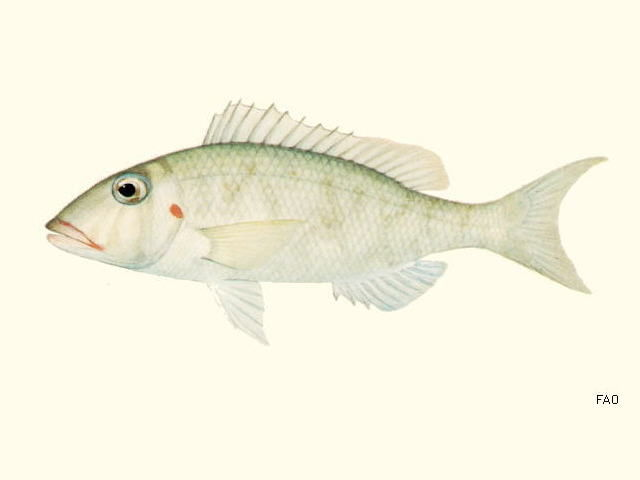fish: (43, 97, 609, 349)
